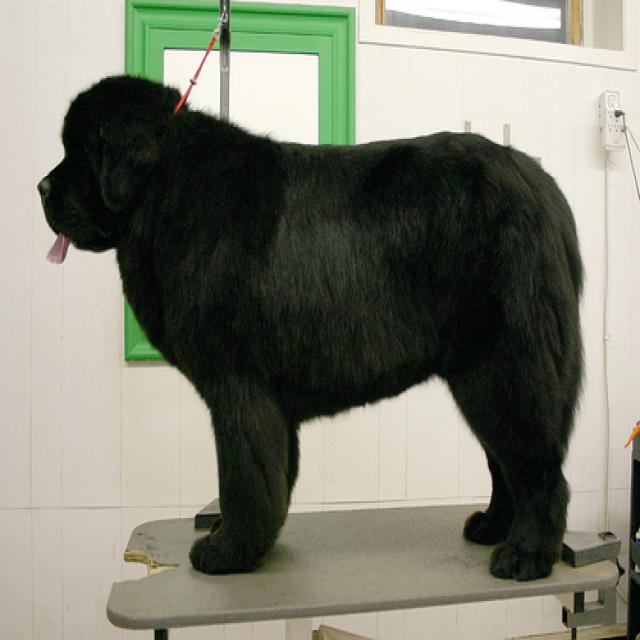dog-newfoundland: (26, 61, 598, 594)
